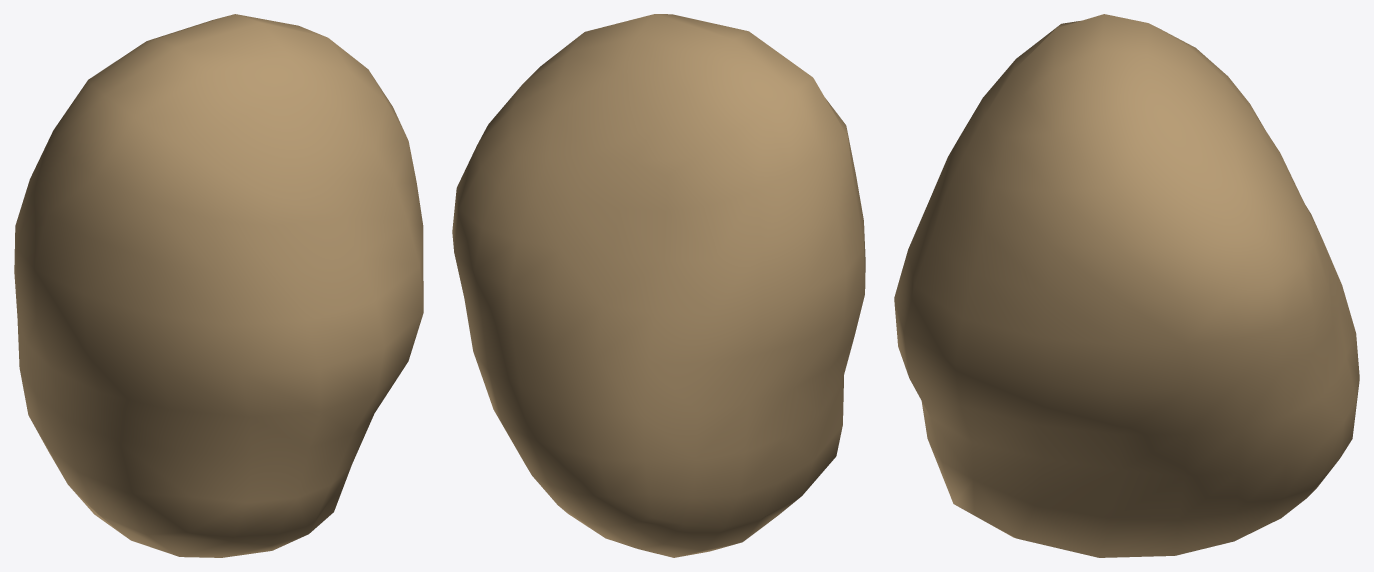
The model's file is MeshPotatoA7_0.obj.
3 renders of one model, left to right at view 1: azimuth 30°, elevation 25°; view 2: azimuth 150°, elevation 25°; view 3: azimuth 270°, elevation 25°, orthographic. The views are drawn at different scales.
Visible parts, largest first — view 1: PotatoA7; view 2: PotatoA7; view 3: PotatoA7.
Boxes of the visible parts, x1,y1,x2,y2 form: PotatoA7: (14, 14, 423, 557); PotatoA7: (452, 14, 865, 557); PotatoA7: (894, 14, 1359, 557).
Size of the model in its own units: 0.0737 by 0.0981 by 0.079.
